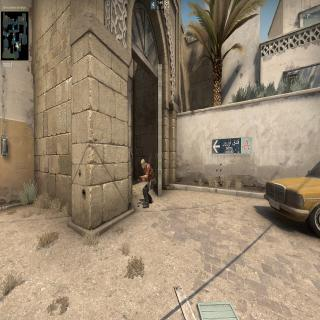T-Head: (140, 155, 146, 171)
